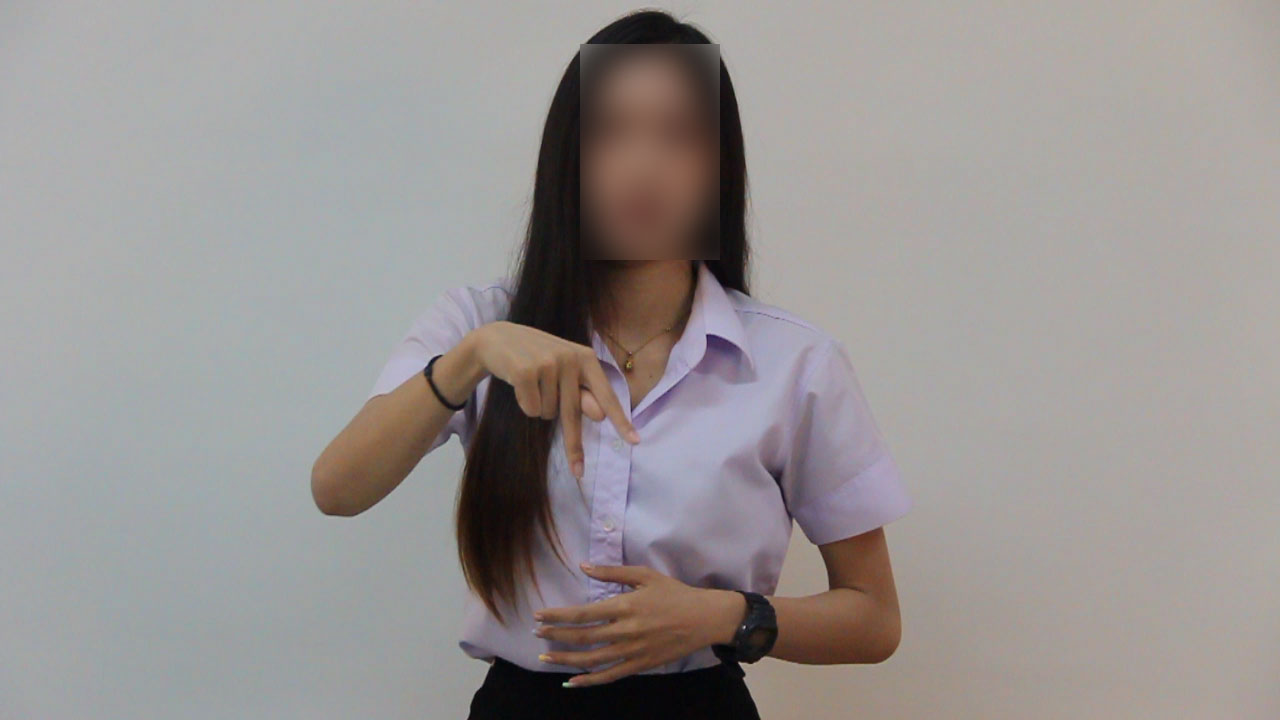por: (458, 292, 647, 488)
